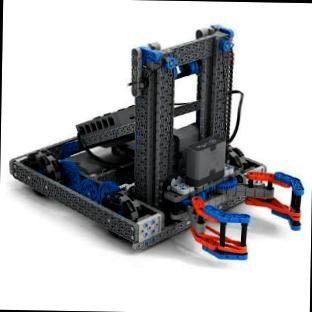Robot: (10, 24, 303, 258)
